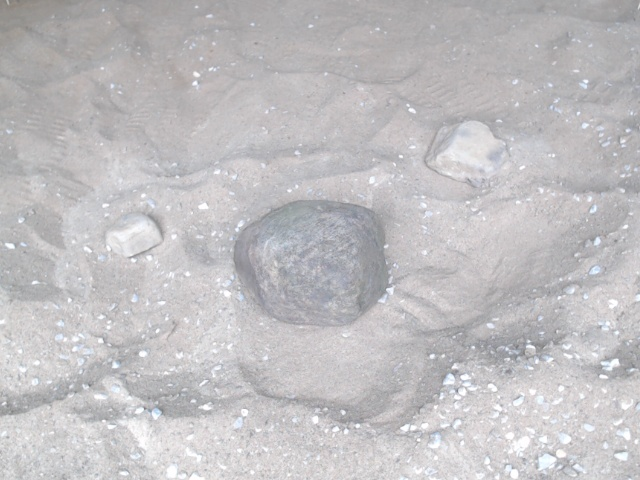rock: (229, 195, 394, 332), (419, 117, 513, 194), (100, 209, 165, 262)
